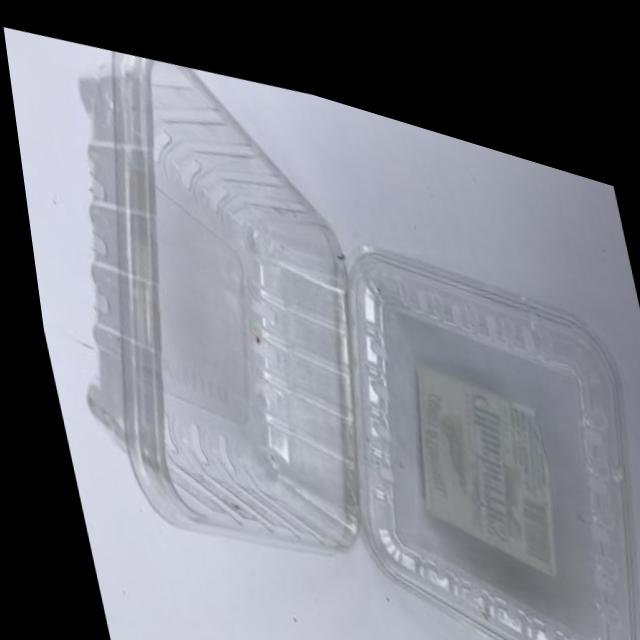plastic: (2, 0, 640, 640)
